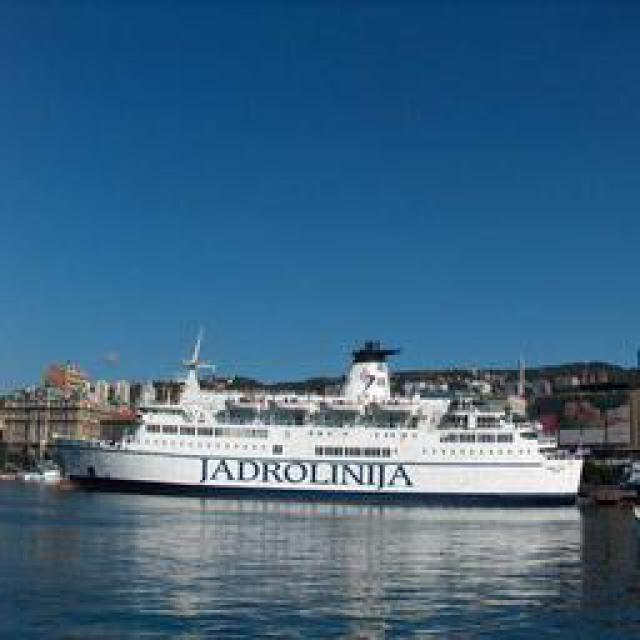Ship: (49, 322, 587, 505)
